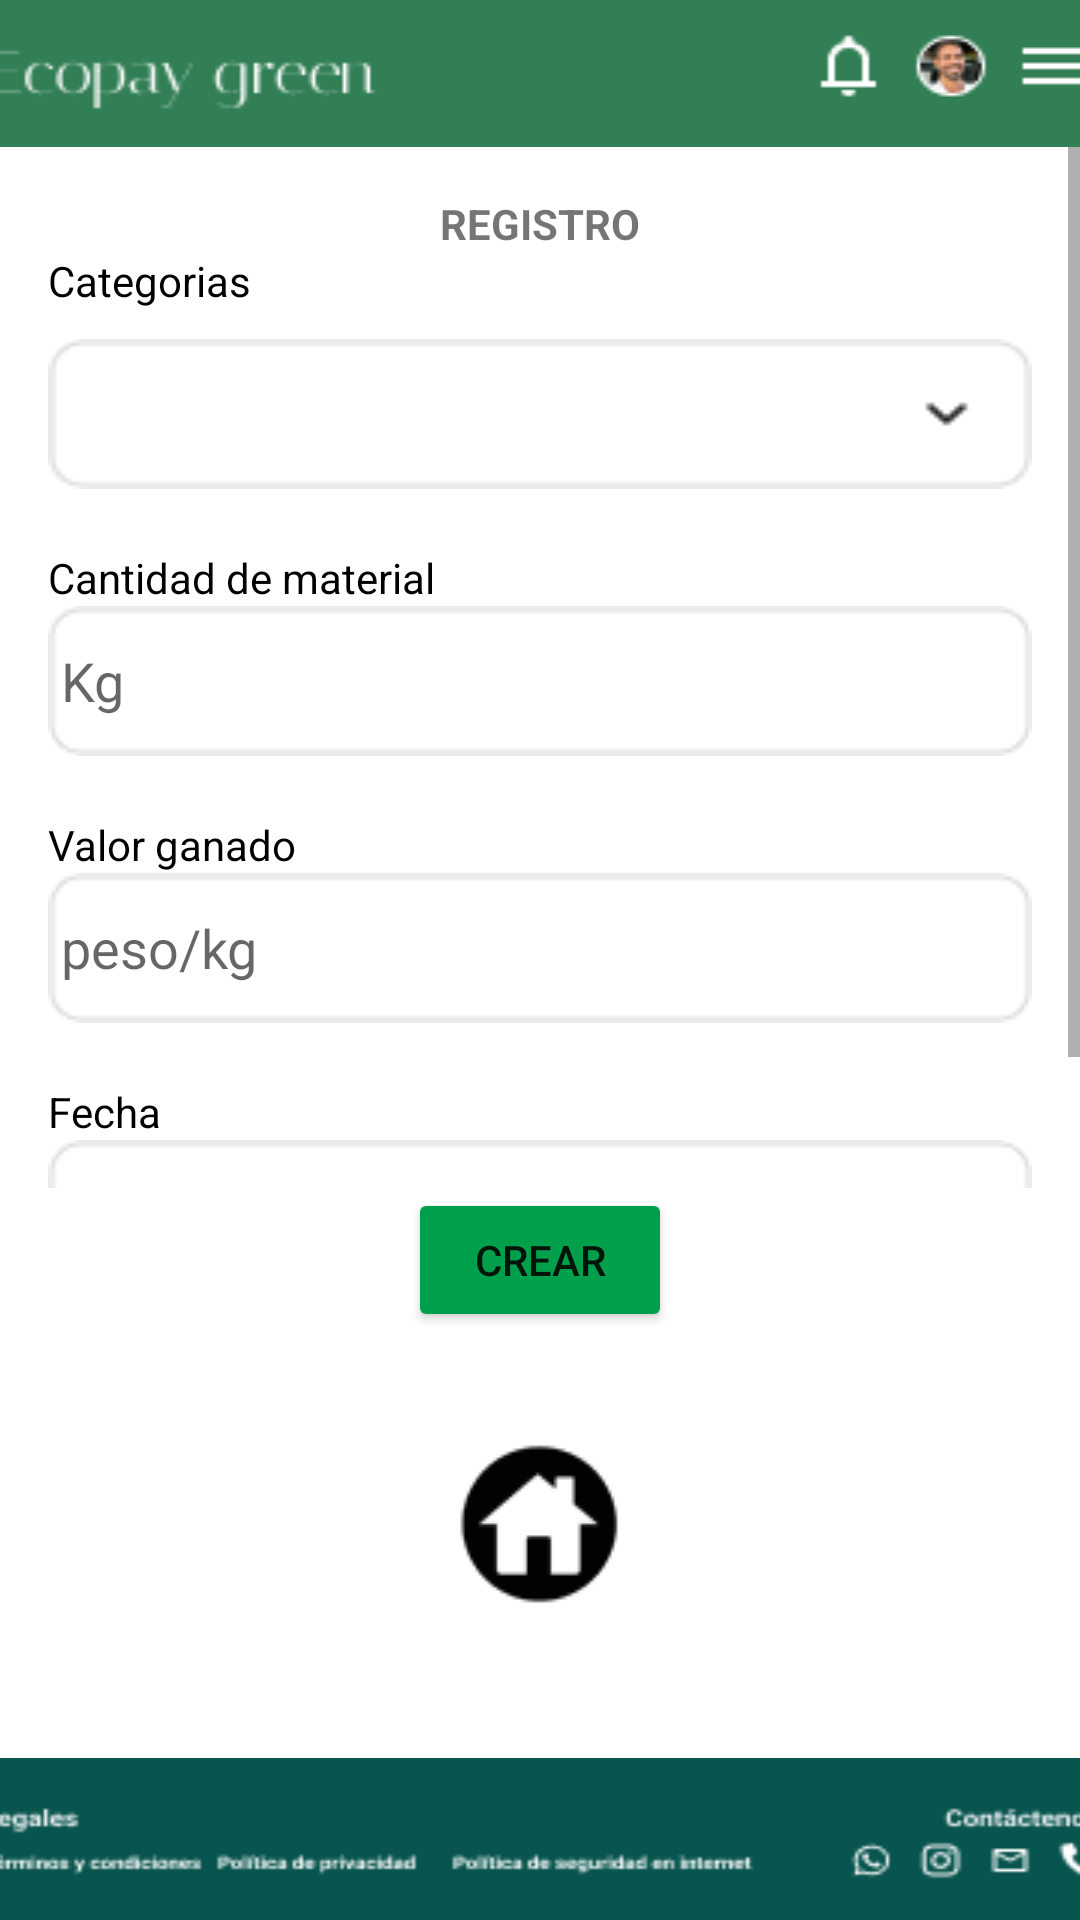

Icon bounding boxes for this 1080w x 1920h phone screenshot, format (x1, y1, x2, y2):
homes: (460, 1445, 618, 1603)
